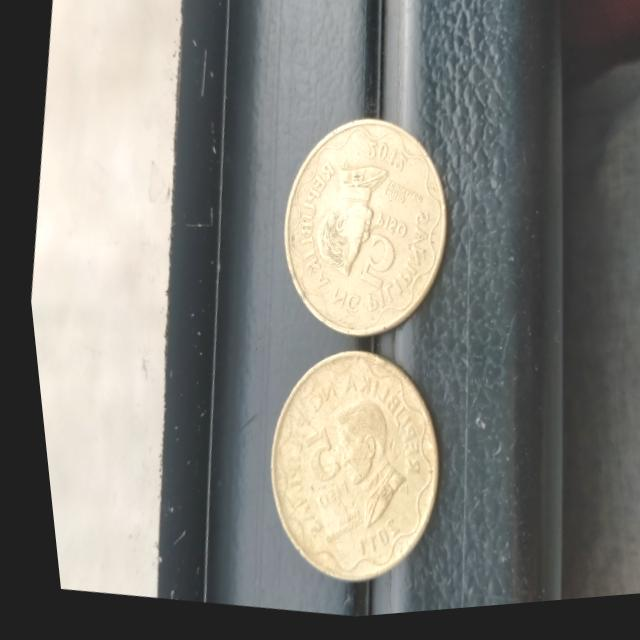5_Old_Front: (339, 204, 413, 313), (279, 424, 351, 517)
